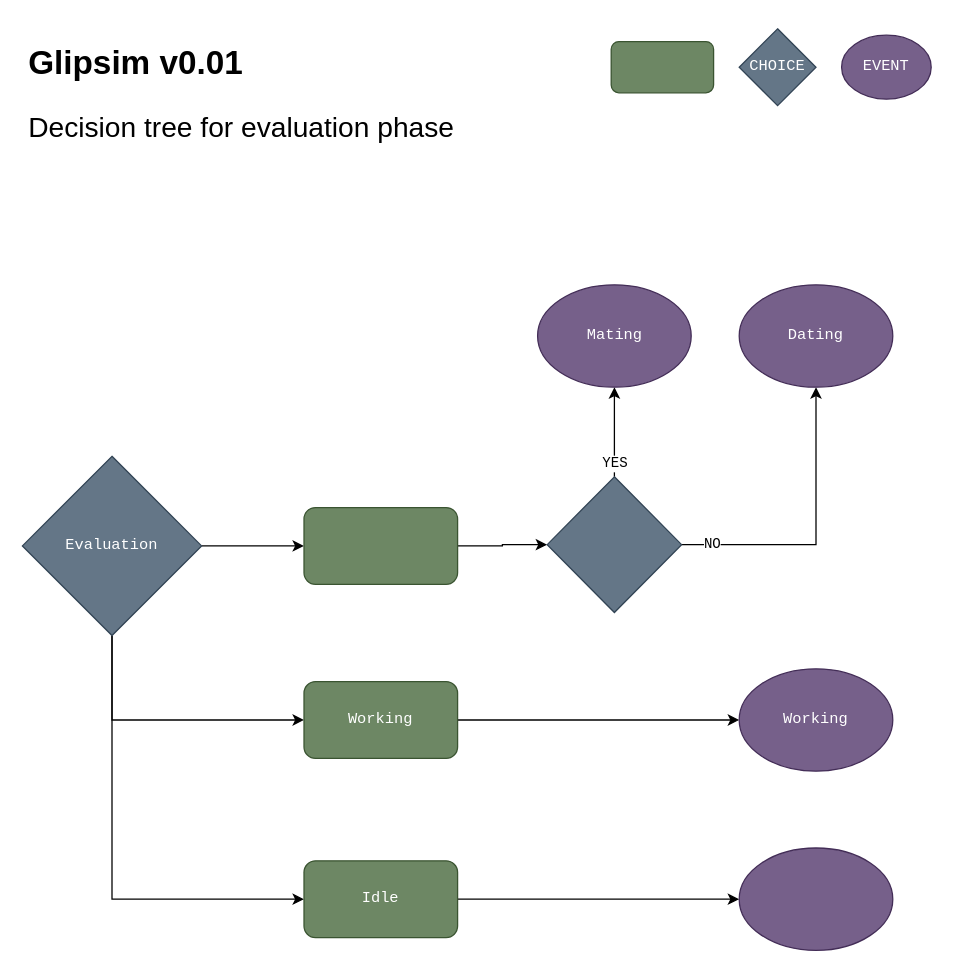
The diagram is 954 pixels wide and 973 high, and some of its shapes have lost their labels. The shapes that lost their labels are listed below. From the top down, each one's centre as x and y in pixels, then its label:
At point (662, 66): "STRATEGY".
At point (380, 545): "Reproduction".
At point (614, 544): "Partnered?".
At point (815, 898): "Idleing".
